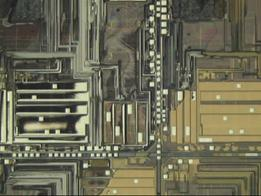COATING BAD: (1, 1, 250, 196)
